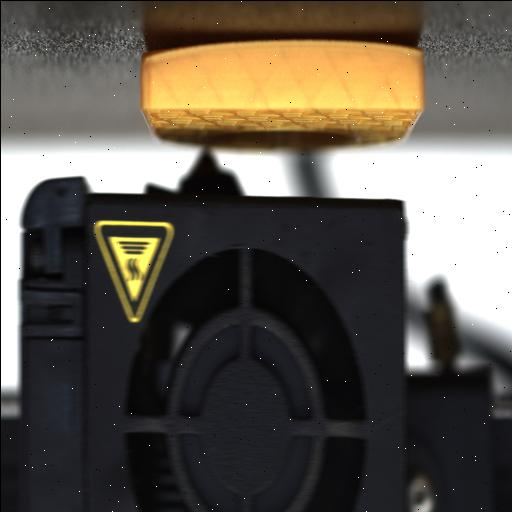warp: (134, 40, 190, 72), (380, 37, 426, 66)
